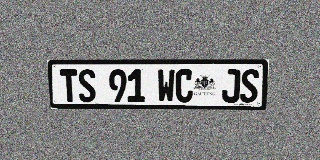1: (127, 69, 145, 102)
9: (109, 69, 127, 102)
C: (175, 69, 193, 102)
J: (221, 69, 241, 103)
S: (240, 69, 259, 103), (77, 69, 96, 102)
T: (60, 69, 79, 102)
W: (157, 69, 175, 102)
